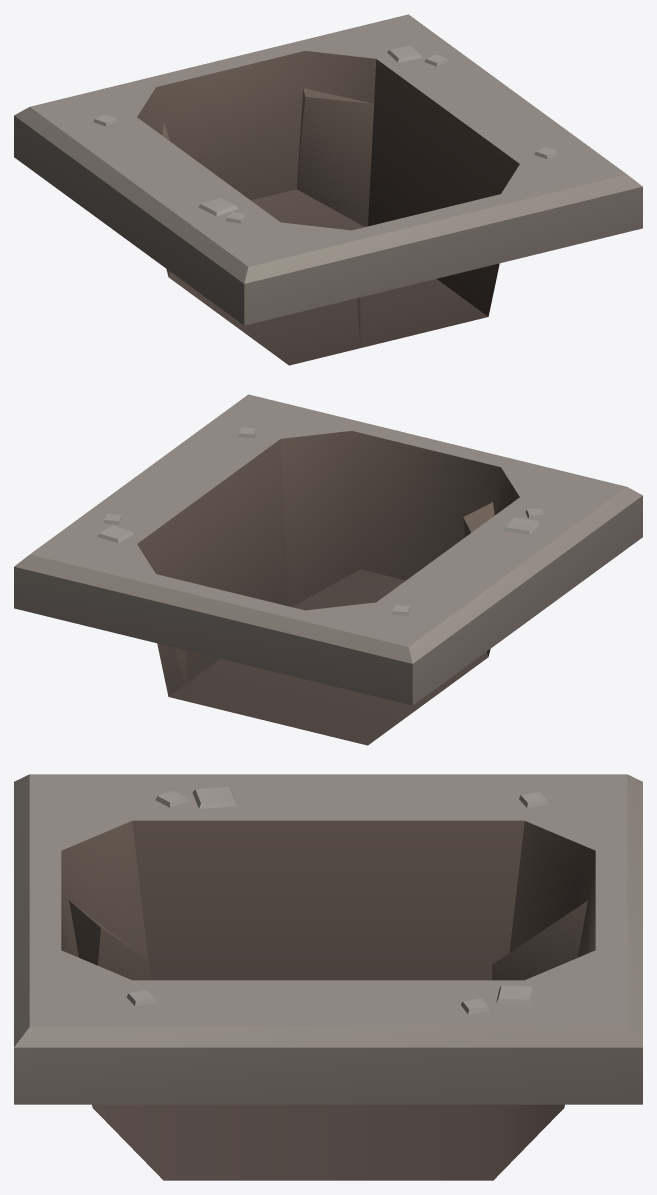
File: floor_dirt_grave.glb
The picture shows the model from 3 angles, top to bottom: view 1: azimuth 30°, elevation 25°; view 2: azimuth 150°, elevation 25°; view 3: azimuth 270°, elevation 25°; orthographic projection. The views are drawn at different scales.
Parts seen in each view (by area): view 1: floor_dirt_grave; view 2: floor_dirt_grave; view 3: floor_dirt_grave.
Part boxes in pixels (x1,y1,x2,y2): floor_dirt_grave: [14, 14, 642, 365]; floor_dirt_grave: [14, 394, 642, 745]; floor_dirt_grave: [14, 774, 642, 1180].
Bounding box in the file's own units: 4 × 1.53 × 4.
Materials: 1 (1 with a texture image).
